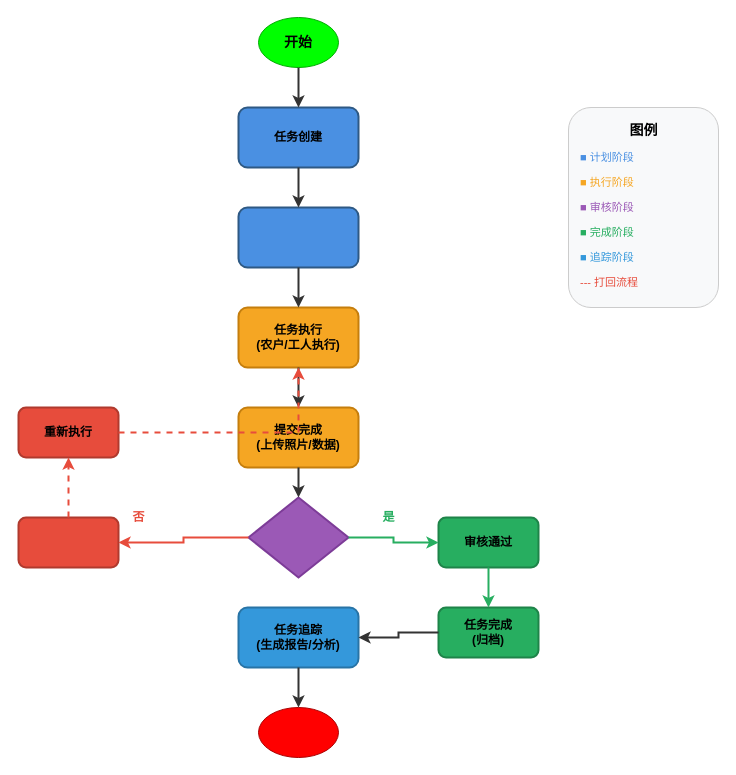
Some shapes in this 736 by 775 pixel diagram are drawn without their labels. The box of each missing label's shape, as (x1, y1, x2, y2) in pixels:
任务安排 (分配人员/设备/时间): (237, 206, 359, 268)
完成情况审核: (247, 496, 349, 578)
审核不通过 (打回重做): (17, 516, 119, 568)
结束: (258, 706, 338, 758)
